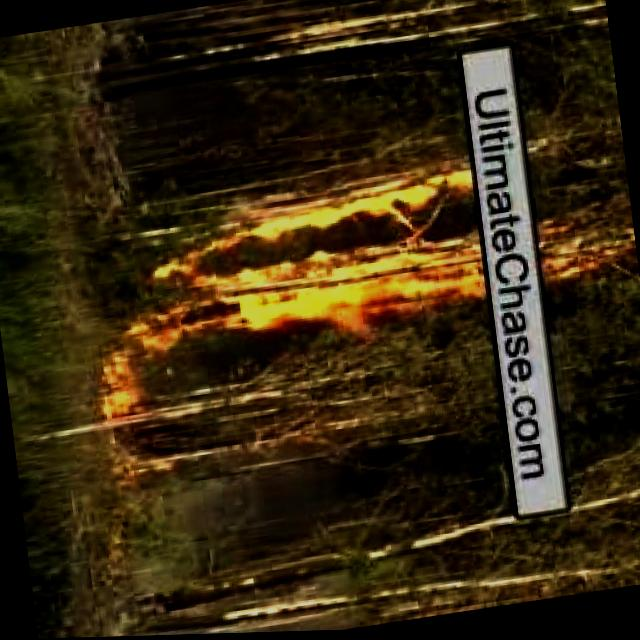helmet: (147, 163, 487, 356), (534, 214, 618, 303), (89, 327, 145, 439)
